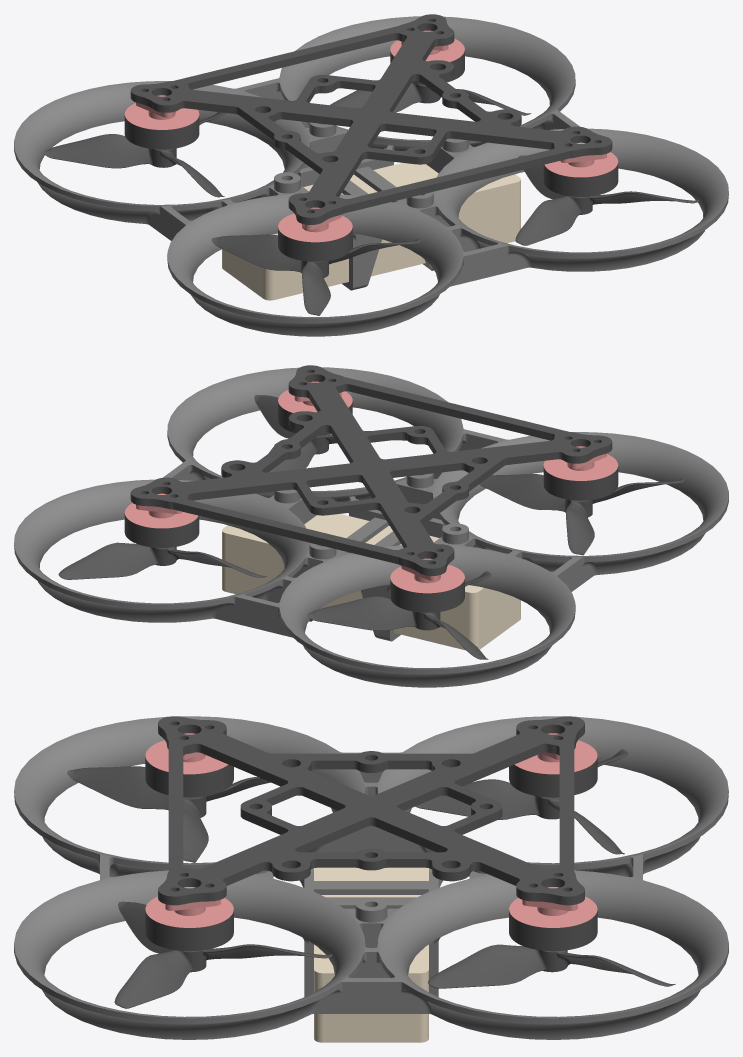
Rendered from sanity.dae.
3 views of the same model, one above another, from view 1: azimuth 30°, elevation 25°; view 2: azimuth 150°, elevation 25°; view 3: azimuth 270°, elevation 25° (orthographic). The views are drawn at different scales.
Parts seen in each view (by area): view 1: Body1.006, Body1.005, Body1.007, Body1.001, Body1.004, Body1.002, Body1, Body4, Body2, Body1.003, Body3; view 2: Body1.006, Body1.005, Body1.007, Body1.001, Body1.004, Body1.003, Body4, Body1, Body3, Body1.002, Body2; view 3: Body1.006, Body1.005, Body1.007, Body1.002, Body1.003, Body1.001, Body3, Body2, Body1.004, Body4, Body1.
Part boxes in pixels (<box>): Body1.006: <box>14,16,728,336</box>; Body1.005: <box>130,14,612,224</box>; Body1.007: <box>222,163,520,300</box>; Body1.001: <box>211,234,420,315</box>; Body1.004: <box>43,112,226,197</box>; Body1.002: <box>515,155,699,245</box>; Body1: <box>278,207,352,261</box>; Body4: <box>124,95,199,149</box>; Body2: <box>543,142,618,196</box>; Body1.003: <box>330,83,531,115</box>; Body3: <box>390,30,464,84</box>; Body1.006: <box>14,367,728,687</box>; Body1.005: <box>130,365,612,575</box>; Body1.007: <box>222,514,520,650</box>; Body1.001: <box>479,474,684,555</box>; Body1.004: <box>307,571,491,659</box>; Body1.003: <box>58,542,266,579</box>; Body4: <box>390,558,464,612</box>; Body1: <box>543,446,618,500</box>; Body3: <box>124,493,199,547</box>; Body1.002: <box>254,395,406,472</box>; Body2: <box>278,381,352,435</box>; Body1.006: <box>14,716,728,1039</box>; Body1.005: <box>158,716,584,905</box>; Body1.007: <box>314,867,428,1042</box>; Body1.002: <box>114,901,332,1008</box>; Body1.003: <box>428,944,675,988</box>; Body1.001: <box>67,766,314,862</box>; Body3: <box>509,887,597,951</box>; Body2: <box>145,887,233,951</box>; Body1.004: <box>415,749,628,854</box>; Body4: <box>509,733,597,797</box>; Body1: <box>145,733,233,797</box>.
Bounding box in the file's own units: 0.1119 × 0.1119 × 0.0295.
